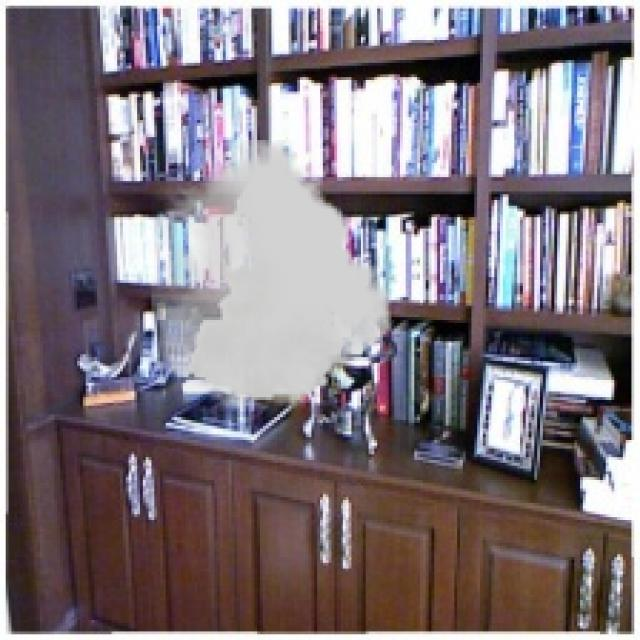smoke: (152, 140, 392, 411)
